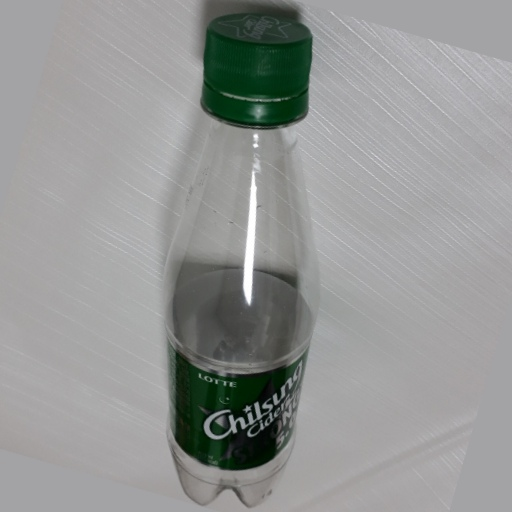Plastic_0: (164, 12, 321, 504)
